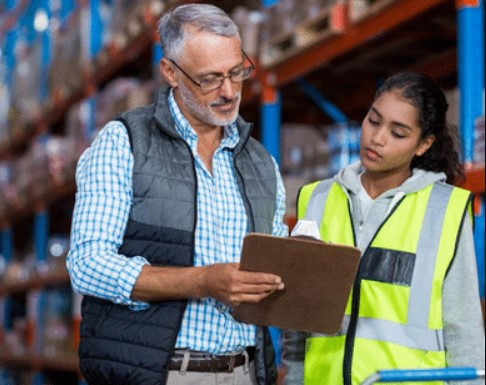worker: (296, 78, 470, 385)
